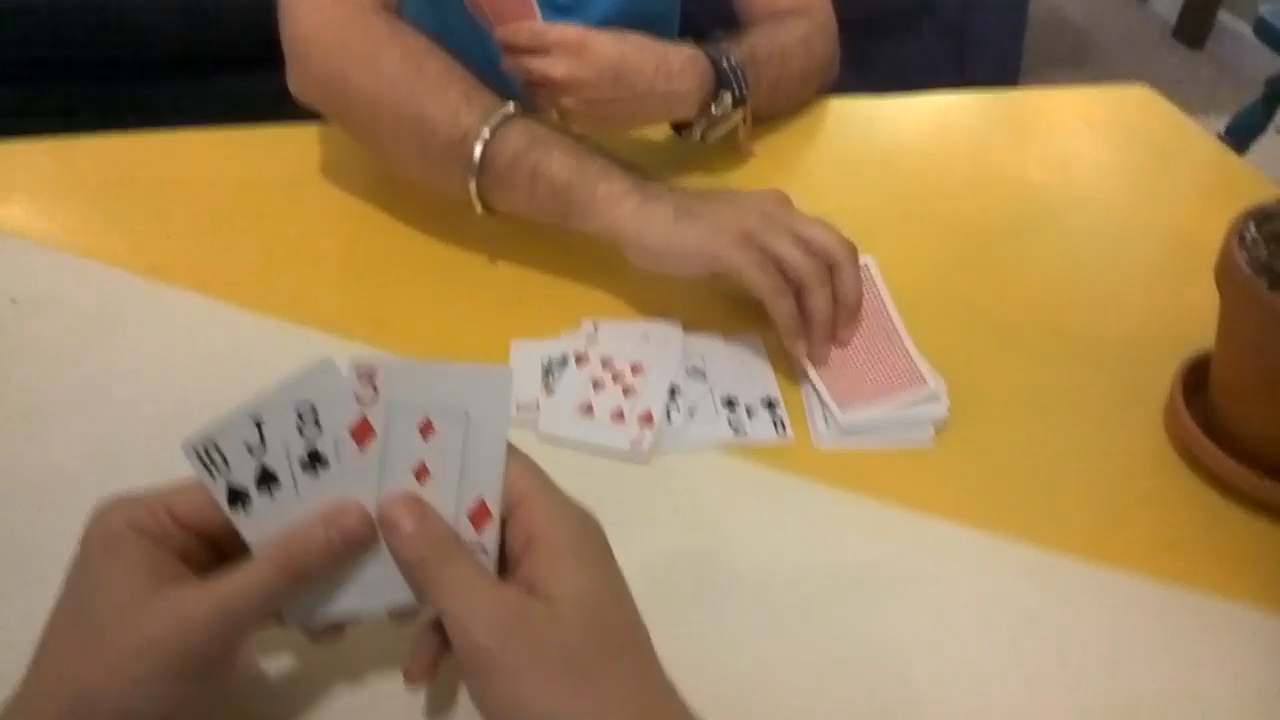hand: (9, 480, 369, 717), (377, 440, 685, 715), (600, 181, 856, 351), (496, 27, 696, 135)
